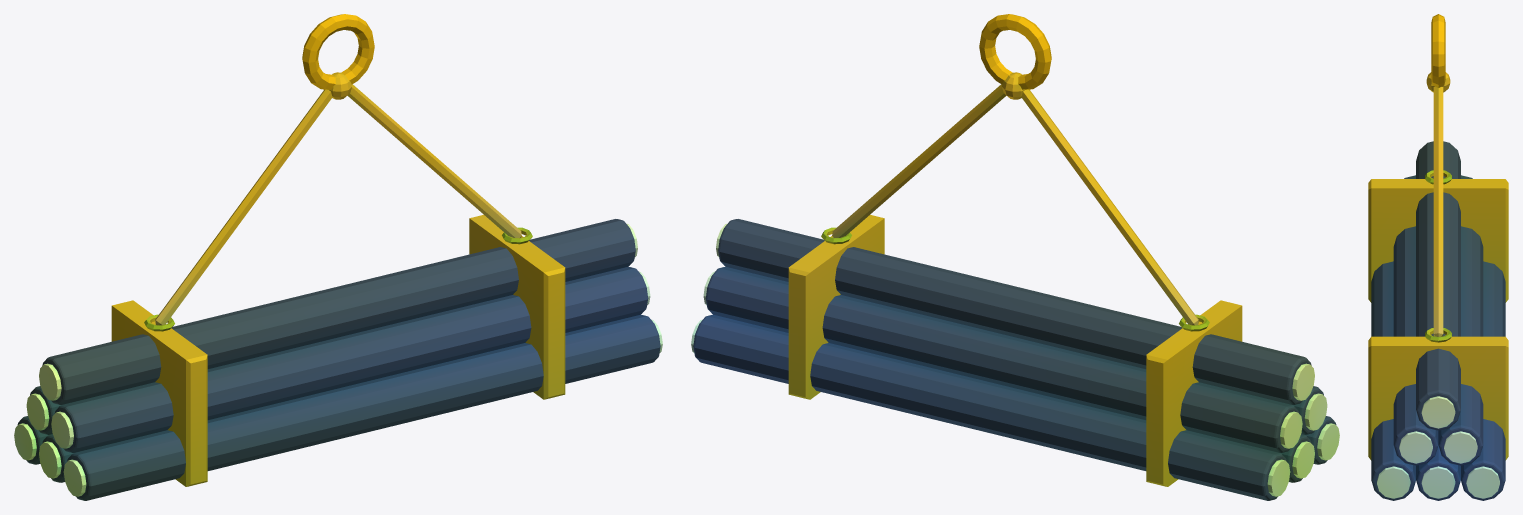
The model's file is Prop_CargoPipes.fbx.
3 renders of one model, left to right at view 1: azimuth 30°, elevation 25°; view 2: azimuth 150°, elevation 25°; view 3: azimuth 270°, elevation 25°, orthographic. The views are drawn at different scales.
Visible parts, largest first — view 1: Cargo; view 2: Cargo; view 3: Cargo.
Part boxes in pixels (bbox=[...]): Cargo: bbox=[14, 14, 662, 500]; Cargo: bbox=[691, 14, 1339, 500]; Cargo: bbox=[1368, 14, 1508, 500].
Bounding box in the file's own units: 2.43 × 1.6 × 0.564.
